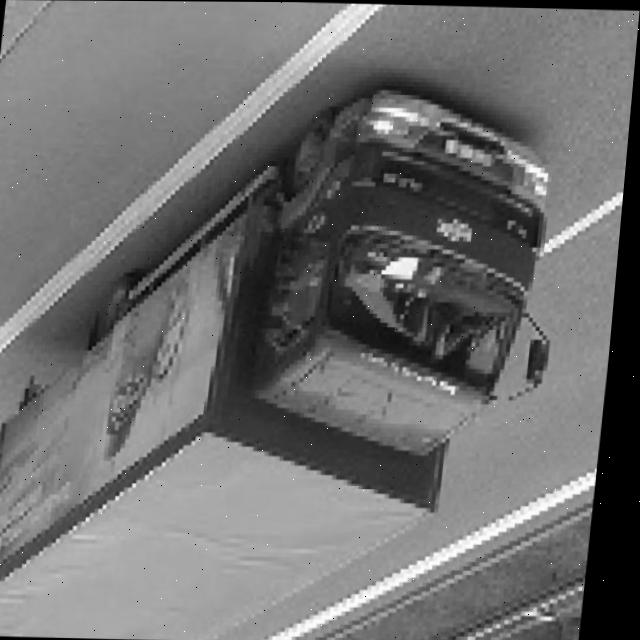truck: (238, 46, 602, 470)
